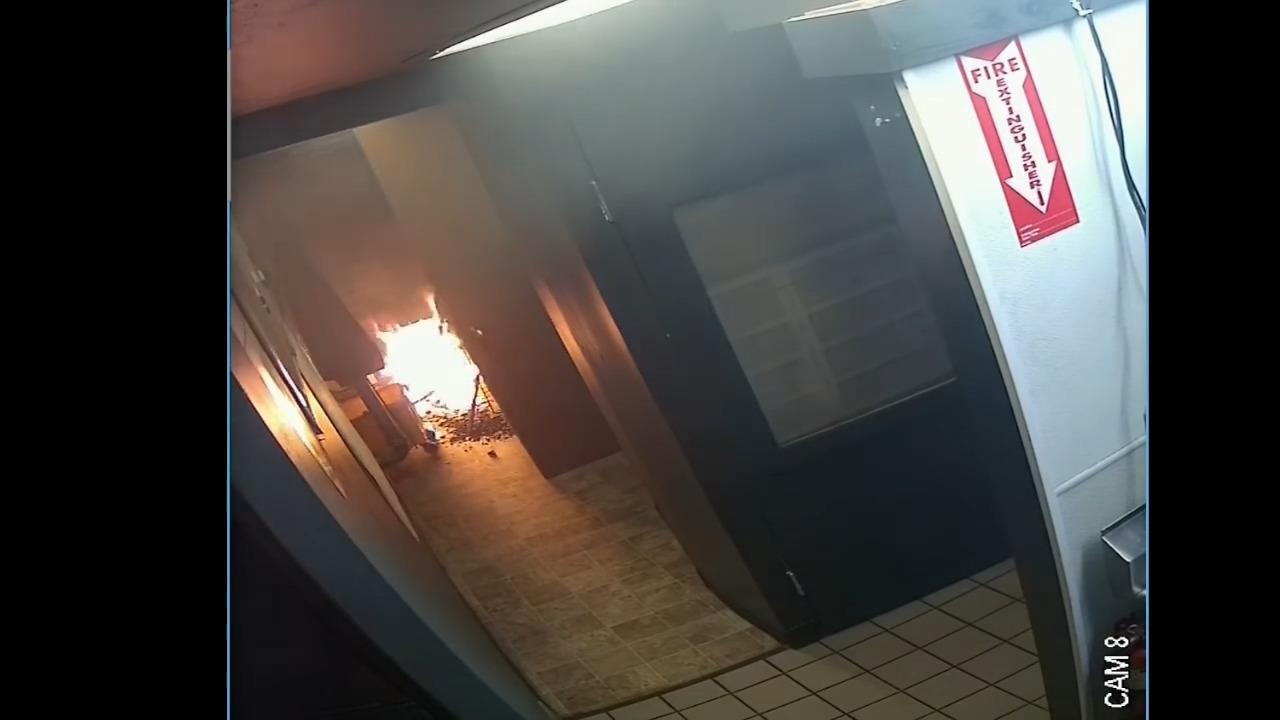fire: (375, 291, 480, 415)
